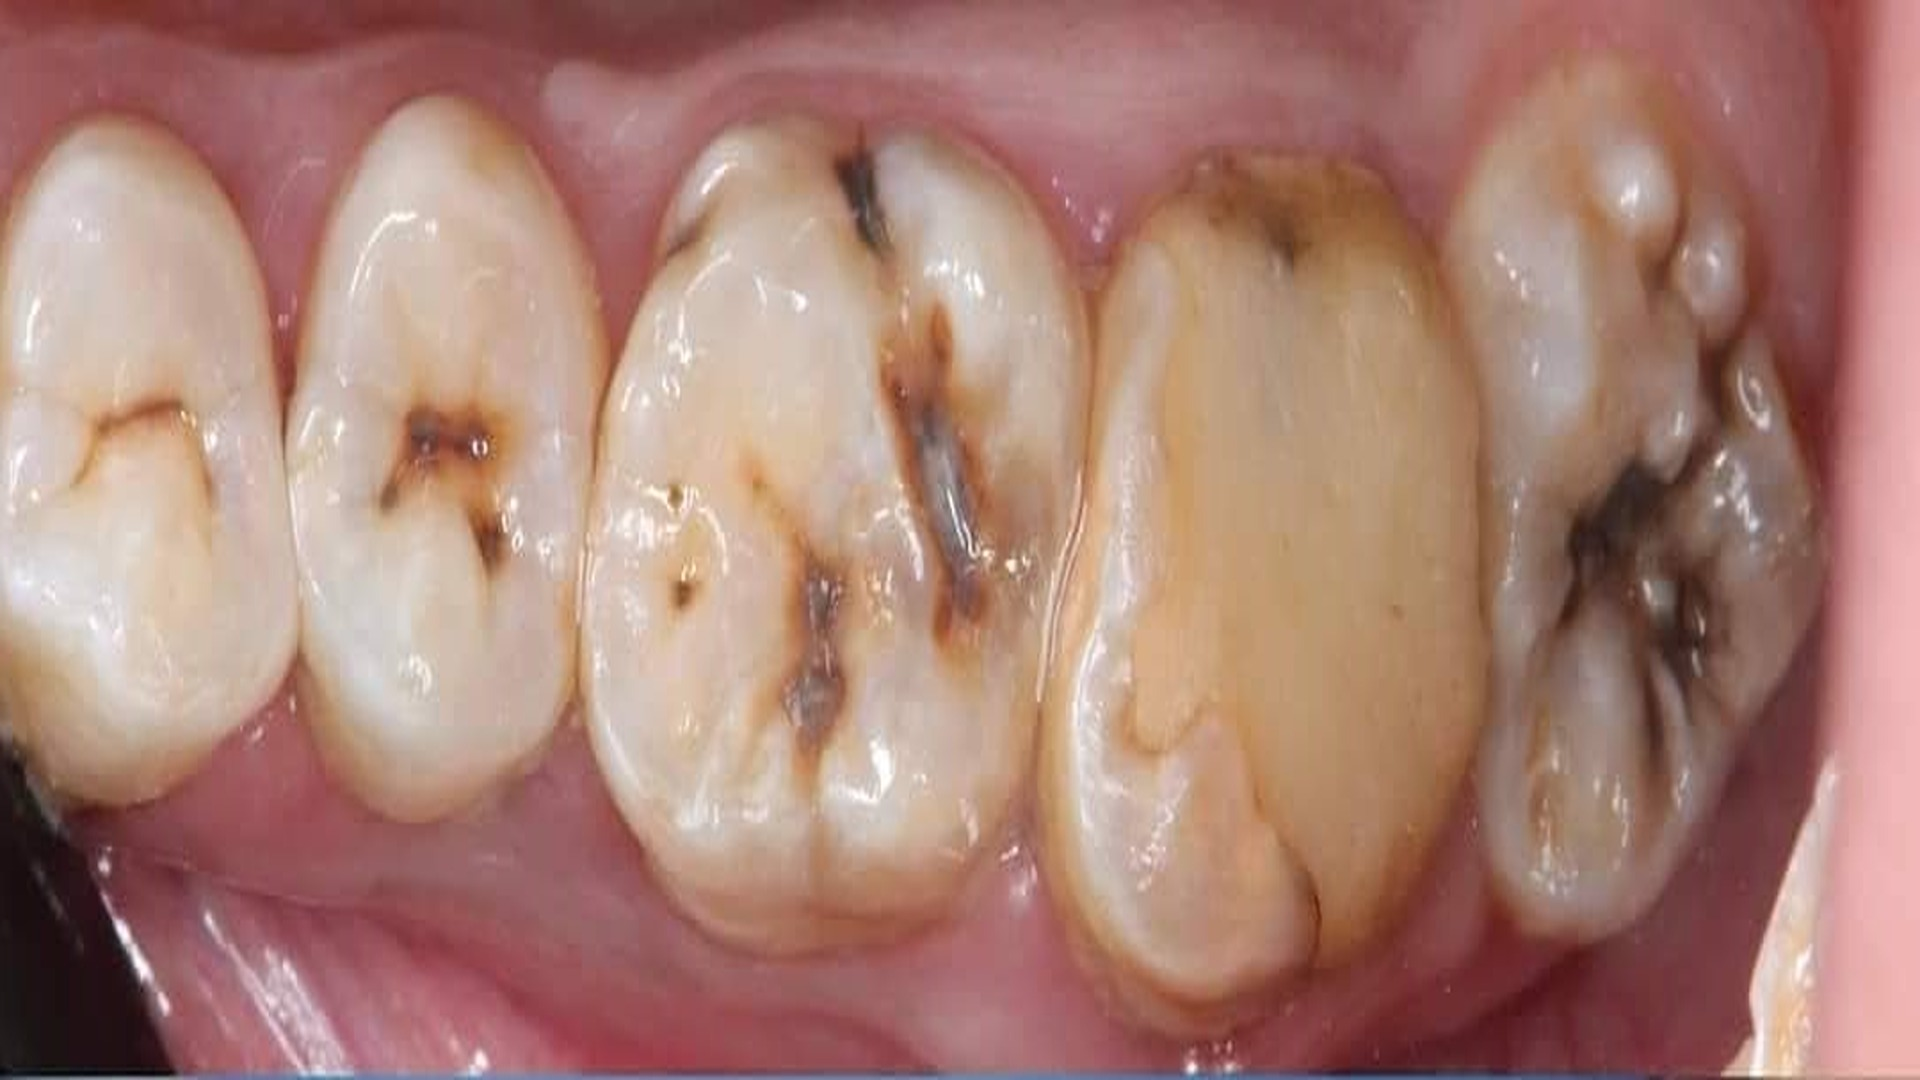tooth: (580, 117, 1081, 959), (1033, 148, 1489, 1042), (1441, 50, 1820, 944), (286, 92, 615, 824), (1, 111, 301, 807)
